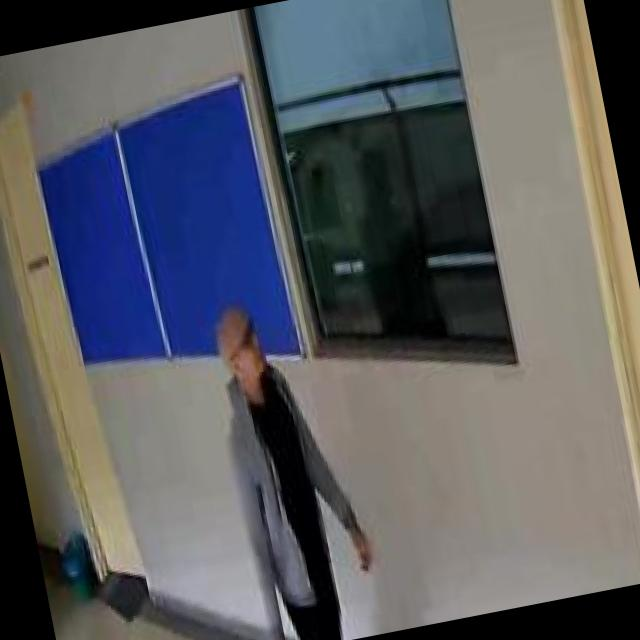Guns: (260, 625, 307, 640)
